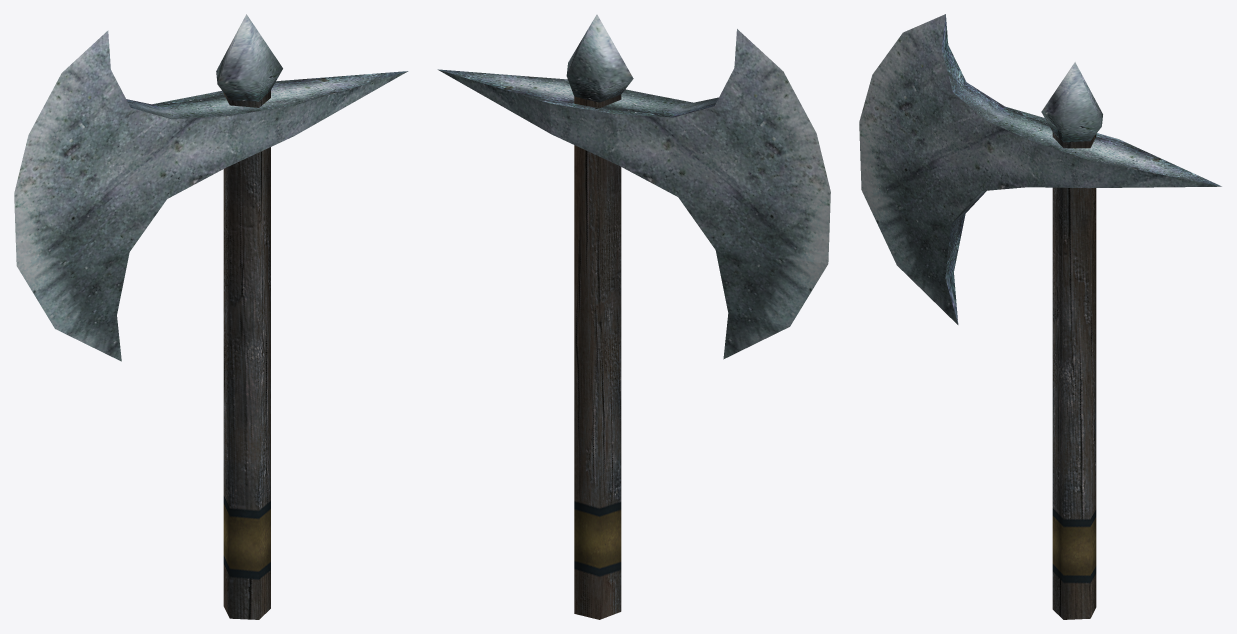
File: Throwing_Axe.FBX
3 renders of one model, left to right at view 1: azimuth 30°, elevation 25°; view 2: azimuth 150°, elevation 25°; view 3: azimuth 330°, elevation 25°, orthographic. The views are drawn at different scales.
Visible parts, largest first — view 1: Throwing_Axe; view 2: Throwing_Axe; view 3: Throwing_Axe.
Boxes of the visible parts, x1=… form: Throwing_Axe: x1=14, y1=14, x2=408, y2=619; Throwing_Axe: x1=437, y1=14, x2=830, y2=619; Throwing_Axe: x1=859, y1=14, x2=1221, y2=619.
Bounding box in the file's own units: 45.6 × 67.95 × 6.31.
